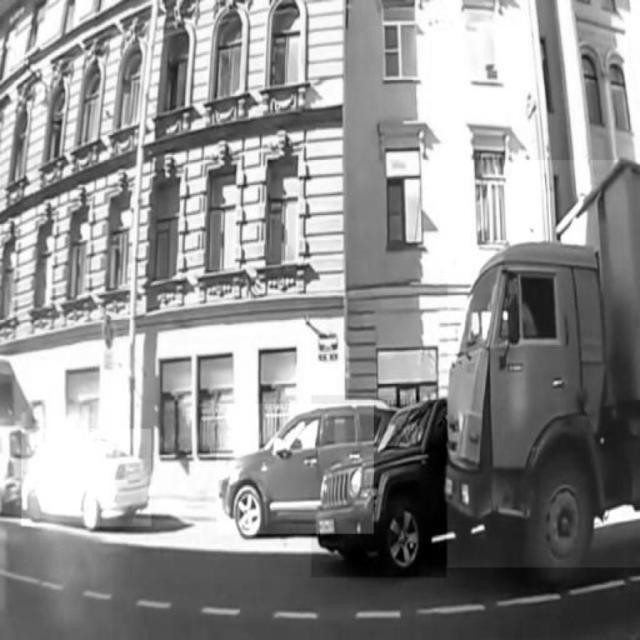vehicle: (448, 160, 640, 568), (312, 396, 446, 578), (217, 404, 374, 534), (21, 428, 151, 526)
